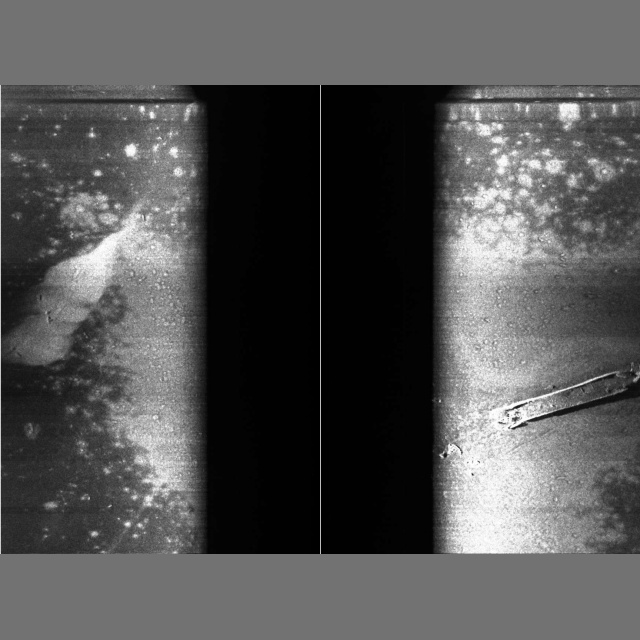Shipwreck: (439, 361, 640, 476)
